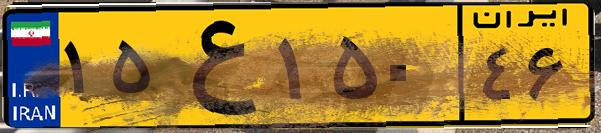0: (385, 28, 445, 110)
1: (270, 28, 330, 110), (57, 26, 110, 100)
4: (475, 38, 525, 113)
5: (330, 28, 385, 110), (110, 28, 158, 98)
6: (525, 38, 570, 115)
ع: (158, 12, 270, 120)
